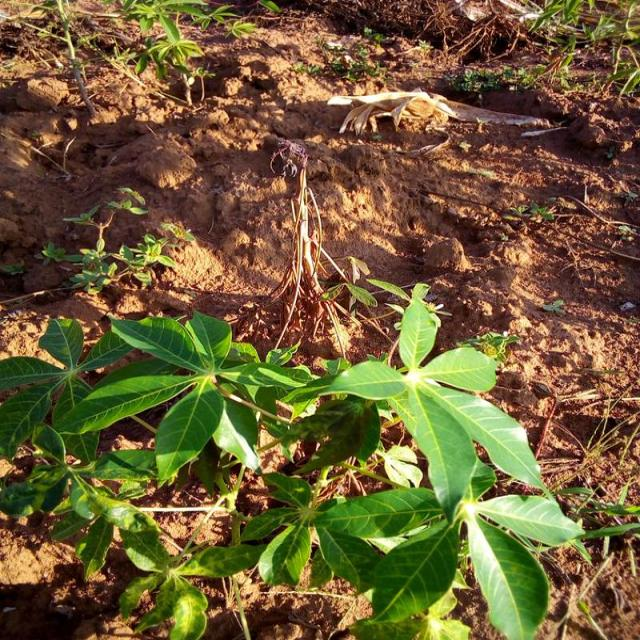cassava leaf: (1, 284, 586, 638), (153, 380, 224, 486)
